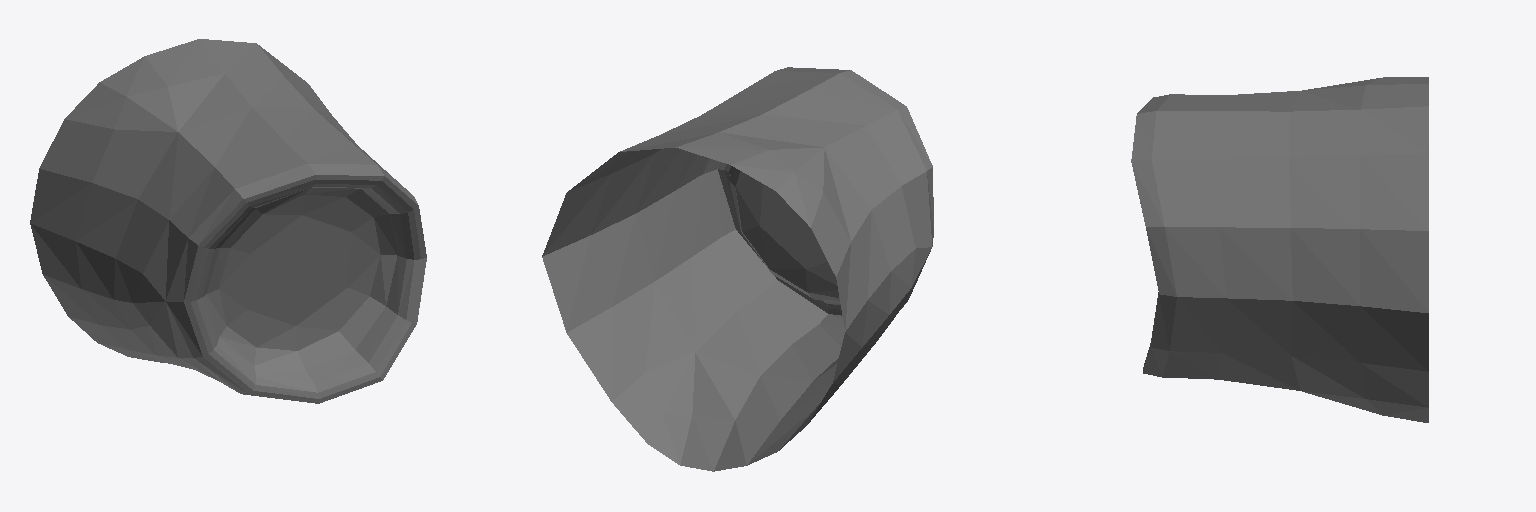
Rendered from trunk.obj.
3 renders of one model, left to right at view 1: azimuth 30°, elevation 25°; view 2: azimuth 150°, elevation 25°; view 3: azimuth 270°, elevation 25°, orthographic.
Visible parts, largest first — view 1: New_Assets:pCylinder32; view 2: New_Assets:pCylinder32; view 3: New_Assets:pCylinder32.
Part boxes in pixels (left/top/right/bottom): New_Assets:pCylinder32: left=30, top=39, right=426, bottom=403; New_Assets:pCylinder32: left=542, top=67, right=933, bottom=471; New_Assets:pCylinder32: left=1131, top=77, right=1428, bottom=422.
Size of the model in its own units: 52 by 51.92 by 44.17.